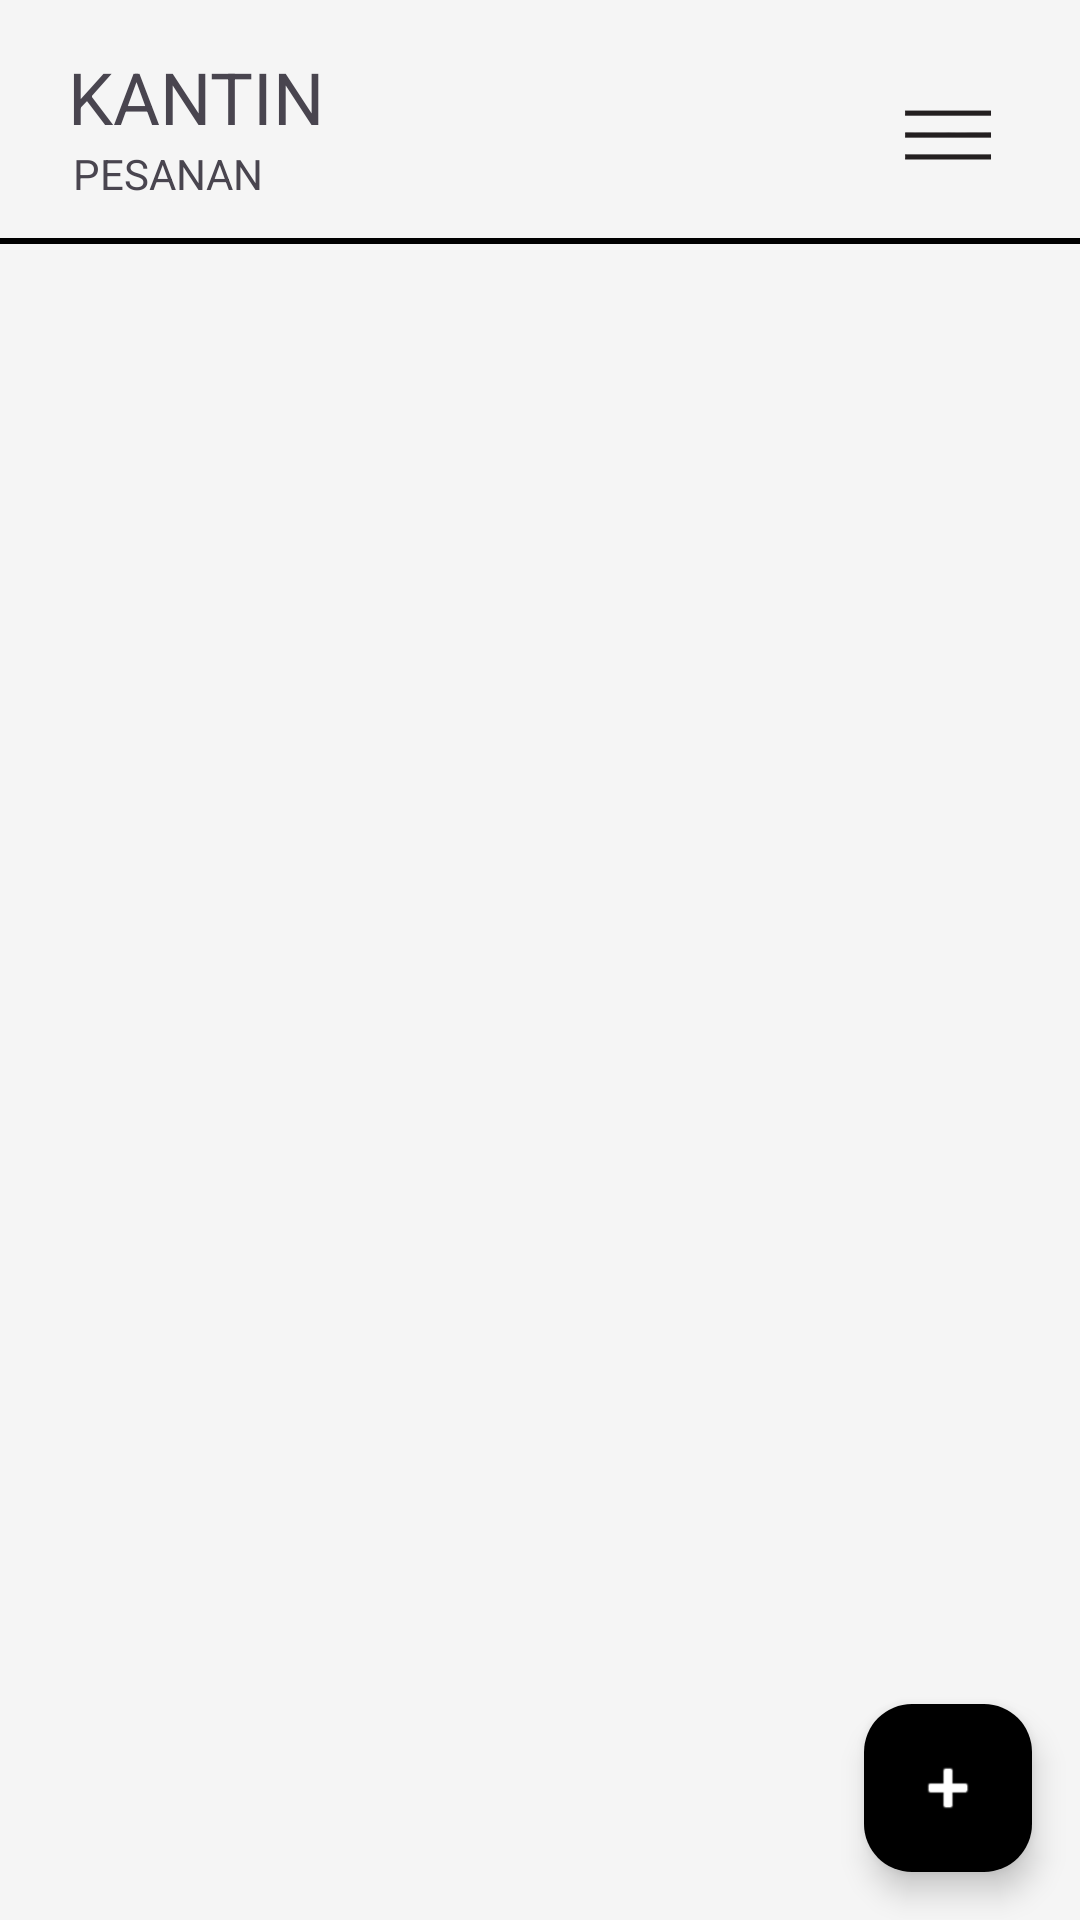

Point at icon controls on the screen. Image size 1080px×1920px, points as [x,y].
hamburger menu: [948,135]
Tambah Order Baru: [948,1788]
